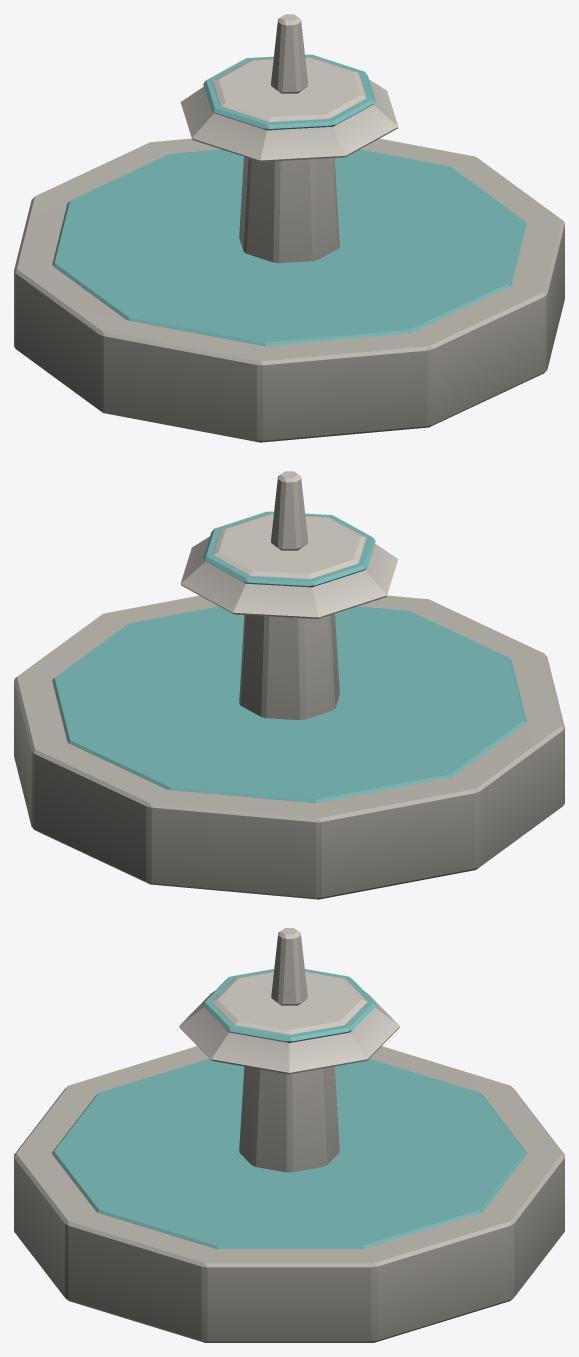
File: vl_fountain.glb
3 renders of one model, top to bottom at view 1: azimuth 30°, elevation 25°; view 2: azimuth 150°, elevation 25°; view 3: azimuth 270°, elevation 25°, orthographic.
Visible parts, largest first — view 1: vl_fountain; view 2: vl_fountain; view 3: vl_fountain.
Boxes of the visible parts, <box> form: vl_fountain: <box>14,14,564,442</box>; vl_fountain: <box>14,471,564,899</box>; vl_fountain: <box>14,928,564,1342</box>.
Size of the model in its own units: 4.18 by 2.65 by 4.38.
